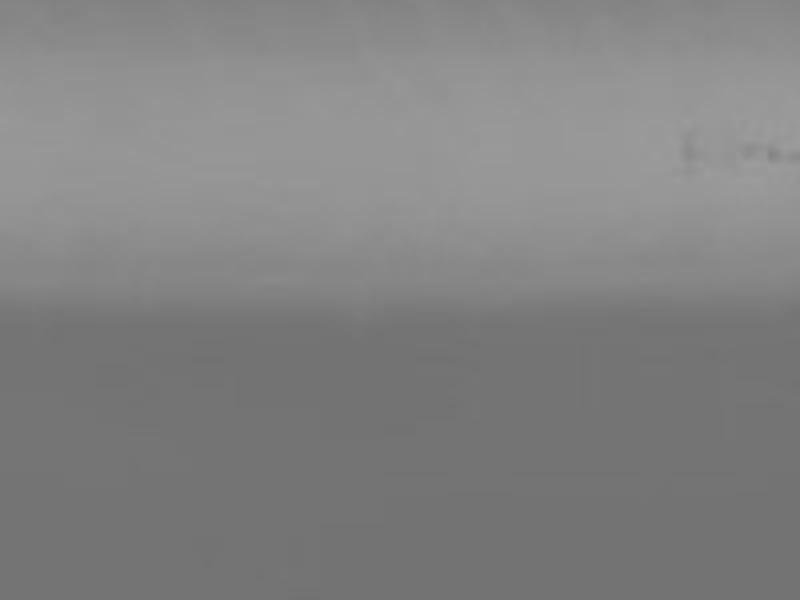defect: (683, 129, 705, 177), (737, 138, 756, 163), (763, 141, 779, 164), (785, 147, 800, 166)
